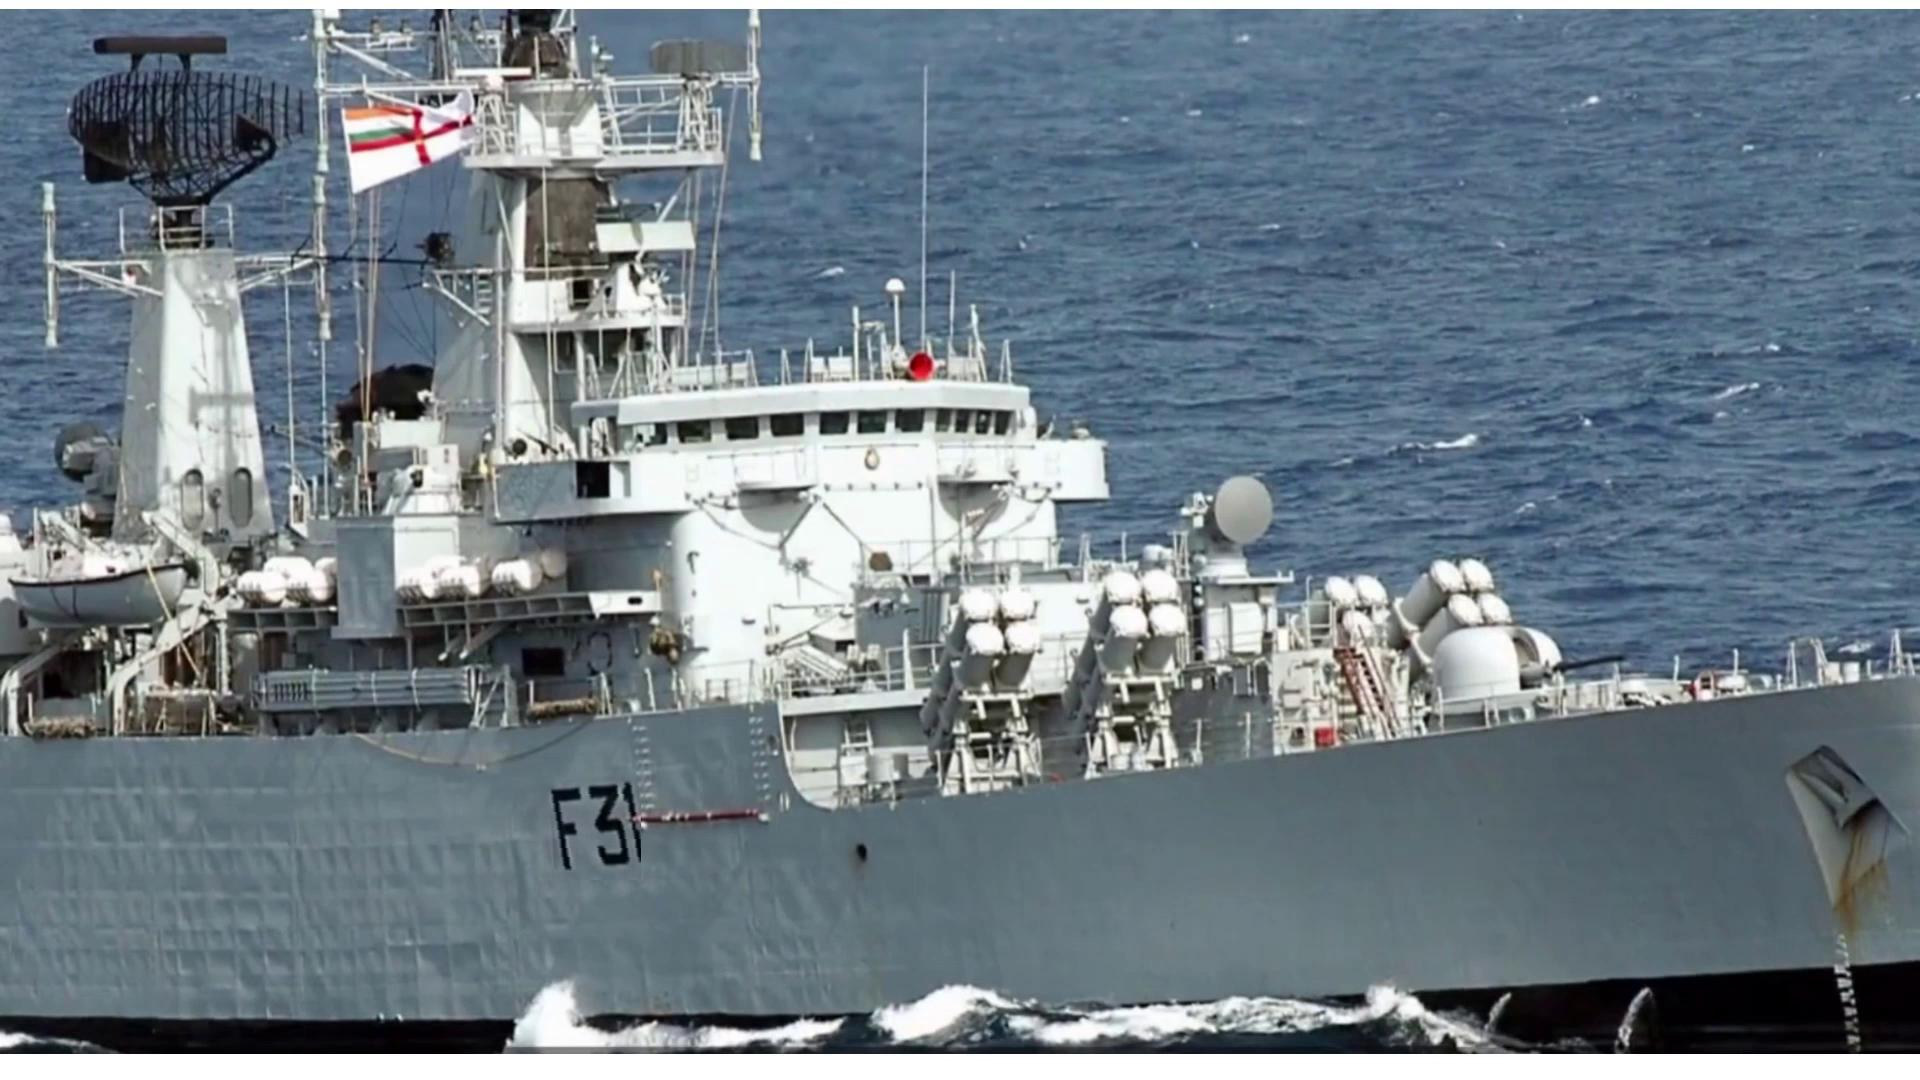OCR: (543, 781, 641, 881)
